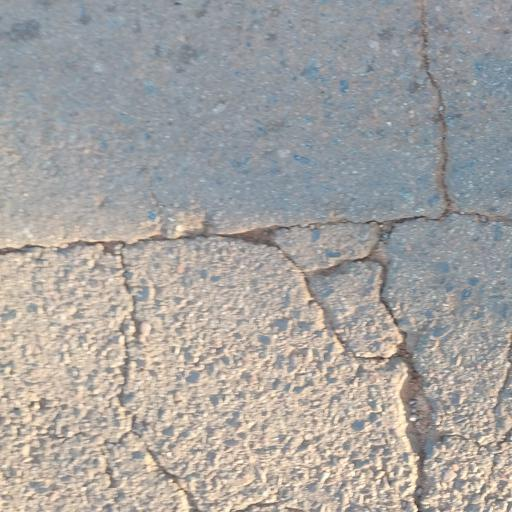GRIETA: (119, 256, 200, 511), (417, 0, 456, 213), (397, 356, 436, 511), (0, 232, 227, 256), (420, 212, 511, 223)
PIEL DE COCODRILO: (225, 213, 417, 371)
